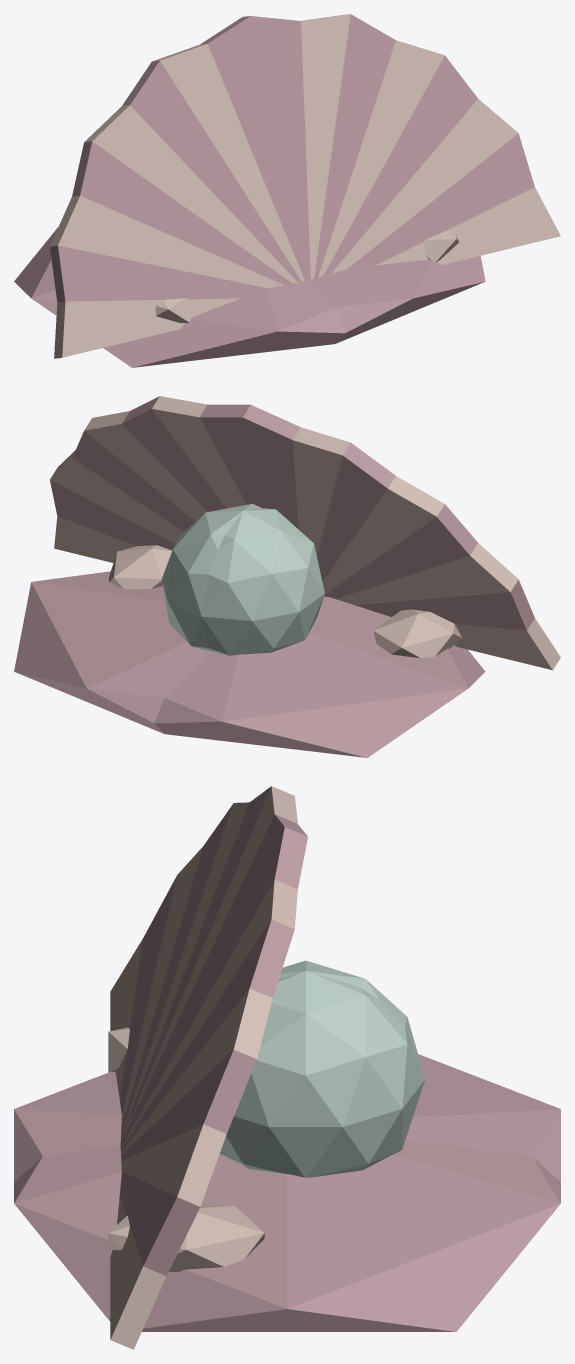
The model's file is PirateCove_PearlClam_Standard.glb.
3 views of the same model, one above another, from view 1: azimuth 30°, elevation 25°; view 2: azimuth 150°, elevation 25°; view 3: azimuth 270°, elevation 25° (orthographic). The views are drawn at different scales.
Parts seen in each view (by area): view 1: PirateCove_PearlClam_Standard; view 2: PirateCove_PearlClam_Standard; view 3: PirateCove_PearlClam_Standard.
Boxes of the visible parts, <box> form: PirateCove_PearlClam_Standard: <box>14,14,560,367</box>; PirateCove_PearlClam_Standard: <box>14,396,560,757</box>; PirateCove_PearlClam_Standard: <box>14,786,560,1349</box>.
Bounding box in the file's own units: 4.49 × 2.48 × 2.98.
